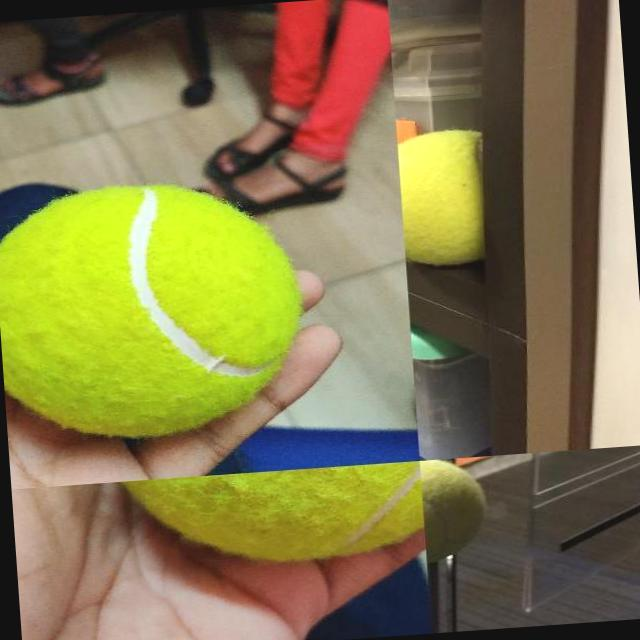Tennis Ball: (0, 175, 307, 444), (111, 460, 424, 570), (396, 125, 484, 276), (419, 456, 492, 564)
